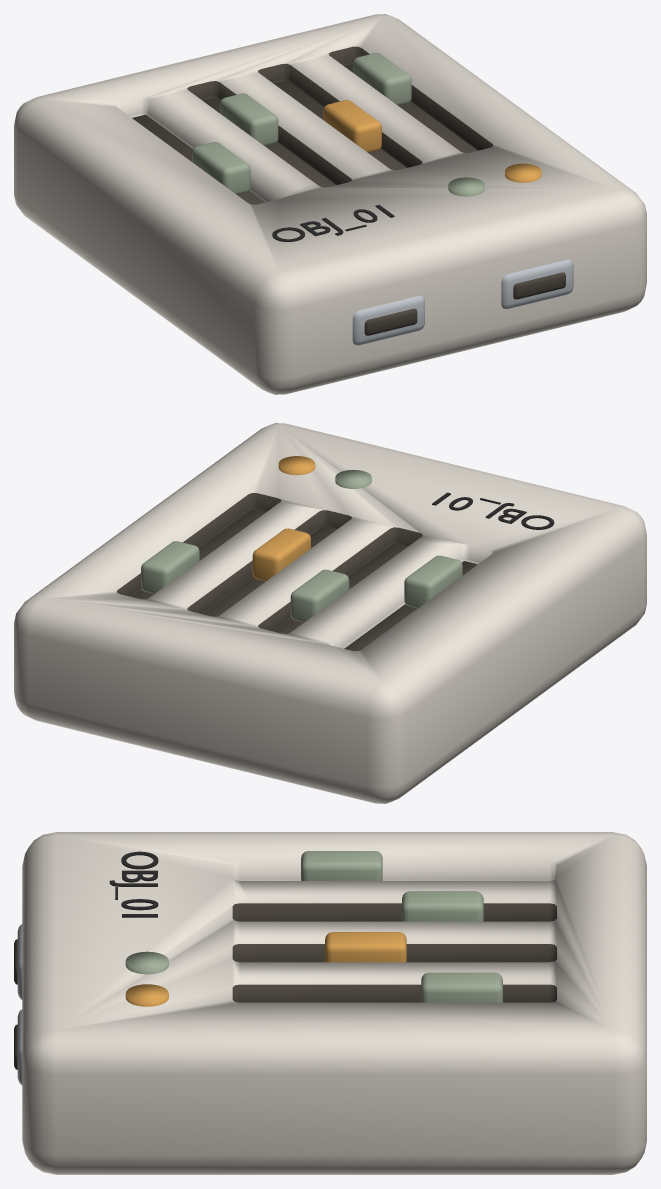
3 views of the same model, one above another, from view 1: azimuth 30°, elevation 25°; view 2: azimuth 150°, elevation 25°; view 3: azimuth 270°, elevation 25° (orthographic). The views are drawn at different scales.
Visible parts, largest first — view 1: ObjectBody, Knob_1, Knob_0, Knob_2, Knob_3, MethodPort_1, MethodPort_0, SlotFloor_3, SlotFloor_2, Label_OBJ01, SlotFloor_1, SlotFloor_0 (+4 smaller); view 2: ObjectBody, Knob_1, Knob_0, Knob_2, Knob_3, Label_OBJ01, SlotFloor_0, SlotFloor_3, SlotFloor_2, SlotFloor_1, StateLed_1, StateLed_0; view 3: ObjectBody, Knob_2, Knob_1, Knob_3, Knob_0, Label_OBJ01, StateLed_0, StateLed_1.
Boxes of the visible parts, box(x1,y1,x2,y2) form: ObjectBody: box(14, 14, 646, 394); Knob_1: box(220, 93, 278, 146); Knob_0: box(192, 142, 250, 194); Knob_2: box(323, 100, 381, 152); Knob_3: box(353, 53, 411, 105); MethodPort_1: box(501, 259, 573, 309); MethodPort_0: box(352, 296, 424, 345); SlotFloor_3: box(344, 64, 477, 152); SlotFloor_2: box(273, 80, 406, 170); Label_OBJ01: box(272, 205, 394, 241); SlotFloor_1: box(203, 97, 336, 187); SlotFloor_0: box(132, 114, 265, 204); ObjectBody: box(14, 423, 646, 803); Knob_1: box(290, 569, 349, 622); Knob_0: box(404, 555, 462, 608); Knob_2: box(252, 528, 310, 581); Knob_3: box(141, 541, 199, 593); Label_OBJ01: box(432, 492, 554, 529); SlotFloor_0: box(344, 561, 477, 651); SlotFloor_3: box(132, 509, 265, 599); SlotFloor_2: box(203, 526, 336, 616); SlotFloor_1: box(273, 543, 406, 633); StateLed_1: box(278, 456, 315, 475); StateLed_0: box(335, 469, 371, 488); ObjectBody: box(22, 832, 646, 1174); Knob_2: box(325, 932, 406, 962); Knob_1: box(402, 891, 483, 921); Knob_3: box(421, 972, 502, 1002); Knob_0: box(301, 851, 382, 880); Label_OBJ01: box(109, 851, 158, 917); StateLed_0: box(125, 951, 168, 974); StateLed_1: box(125, 984, 168, 1006).
Size of the model in its own units: 2.2 by 0.72 by 2.63.
